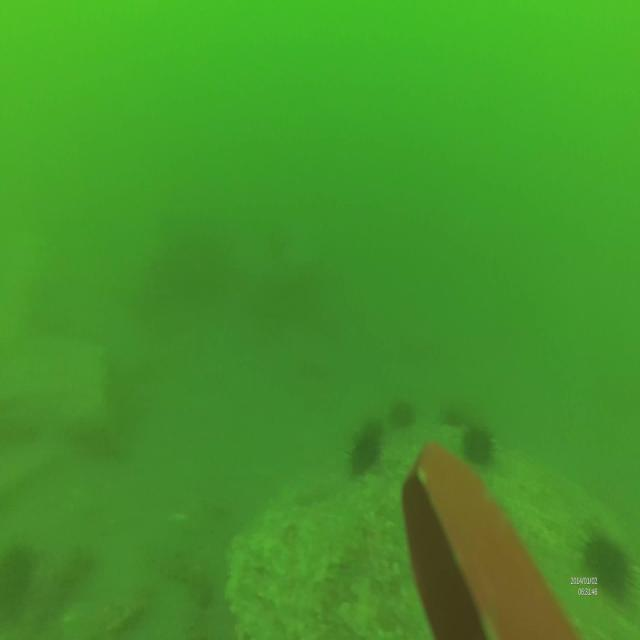echinus: (583, 524, 639, 608), (348, 418, 386, 474), (461, 422, 497, 464), (389, 396, 416, 433)
